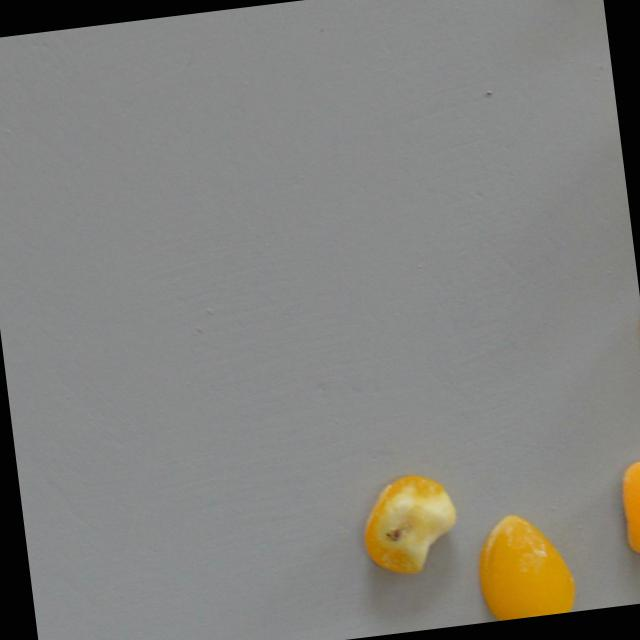dañado: (609, 455, 640, 564)
pelicula: (475, 507, 581, 622)
punto_negro: (354, 468, 465, 584)
